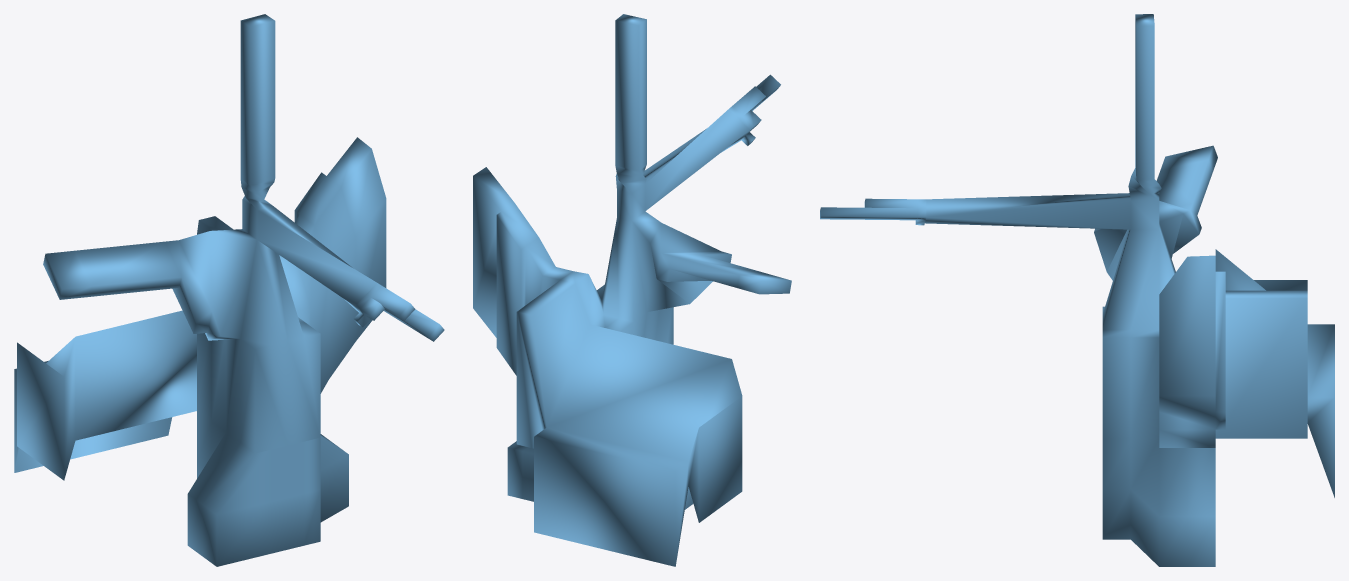
The model's file is scifiBuilding1.fbx.
3 views of the same model, side by side, from view 1: azimuth 30°, elevation 25°; view 2: azimuth 150°, elevation 25°; view 3: azimuth 270°, elevation 25° (orthographic). The views are drawn at different scales.
Visible parts, largest first — view 1: Building1; view 2: Building1; view 3: Building1.
Part boxes in pixels (bbox=[...]): Building1: bbox=[14, 14, 444, 566]; Building1: bbox=[473, 14, 791, 566]; Building1: bbox=[820, 14, 1334, 566].
Size of the model in its own units: 67.66 by 104 by 96.65.
